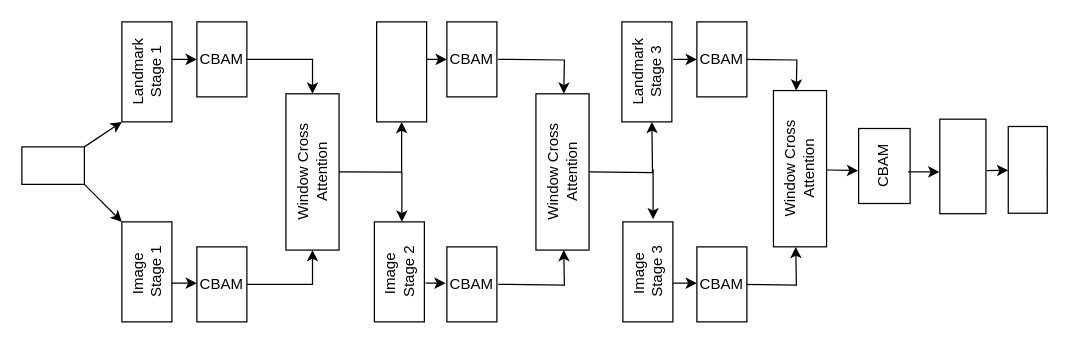
Image size: 1080x344. Some labels were removed from this diagram. Here are the shapes that lost their labels. From the top down, the centre of each, then its label:
pixel 401 71: Landmark Stage 2
pixel 52 165: Input Image
pixel 962 166: VIT Model
pixel 1027 169: Head
